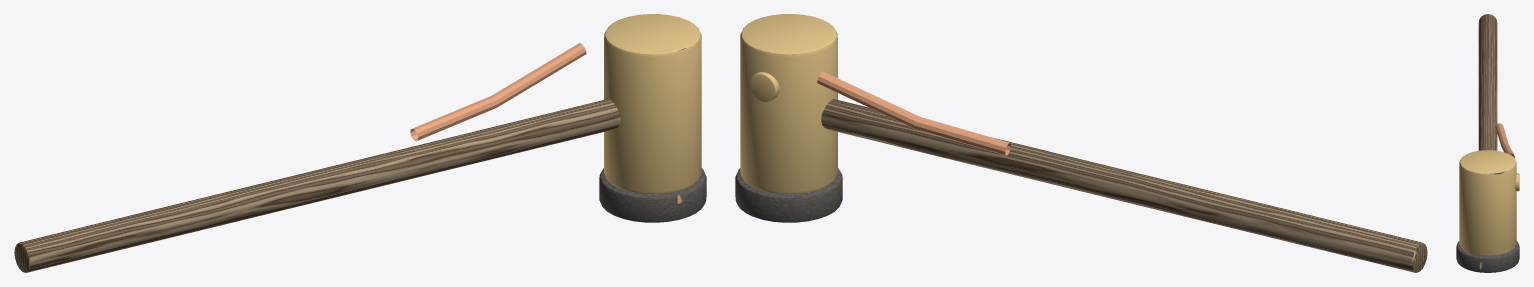
Rendered from maul.glb.
3 views of the same model, side by side, from view 1: azimuth 30°, elevation 25°; view 2: azimuth 150°, elevation 25°; view 3: azimuth 270°, elevation 25° (orthographic). The views are drawn at different scales.
Parts seen in each view (by area): view 1: handle, cylinder, head_face, pipe; view 2: handle, cylinder, head_face, pipe, gauge; view 3: cylinder, handle, head_face, pipe, gauge.
Boxes of the visible parts, x1,y1,x2,y2 form: handle: (14, 99, 620, 272); cylinder: (604, 14, 701, 193); head_face: (599, 168, 706, 222); pipe: (410, 43, 586, 141); handle: (821, 99, 1427, 272); cylinder: (740, 14, 837, 193); head_face: (735, 168, 842, 222); pipe: (817, 71, 1010, 155); gauge: (749, 71, 779, 101); cylinder: (1459, 150, 1516, 255); handle: (1478, 14, 1497, 150); head_face: (1456, 241, 1519, 272); pipe: (1495, 123, 1514, 157); gauge: (1515, 173, 1519, 191).
Bounding box in the file's own units: 0.8 × 0.19 × 0.11.
1 material, 1 textured.
